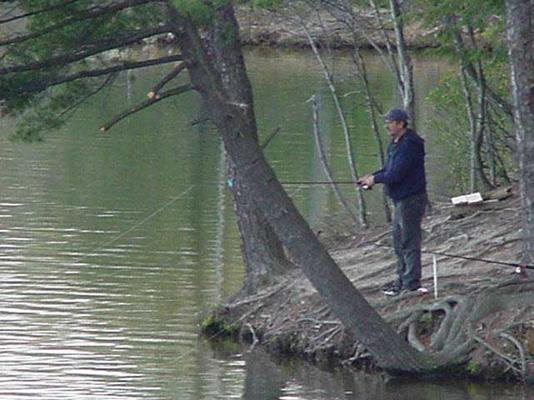person: (358, 108, 428, 297)
